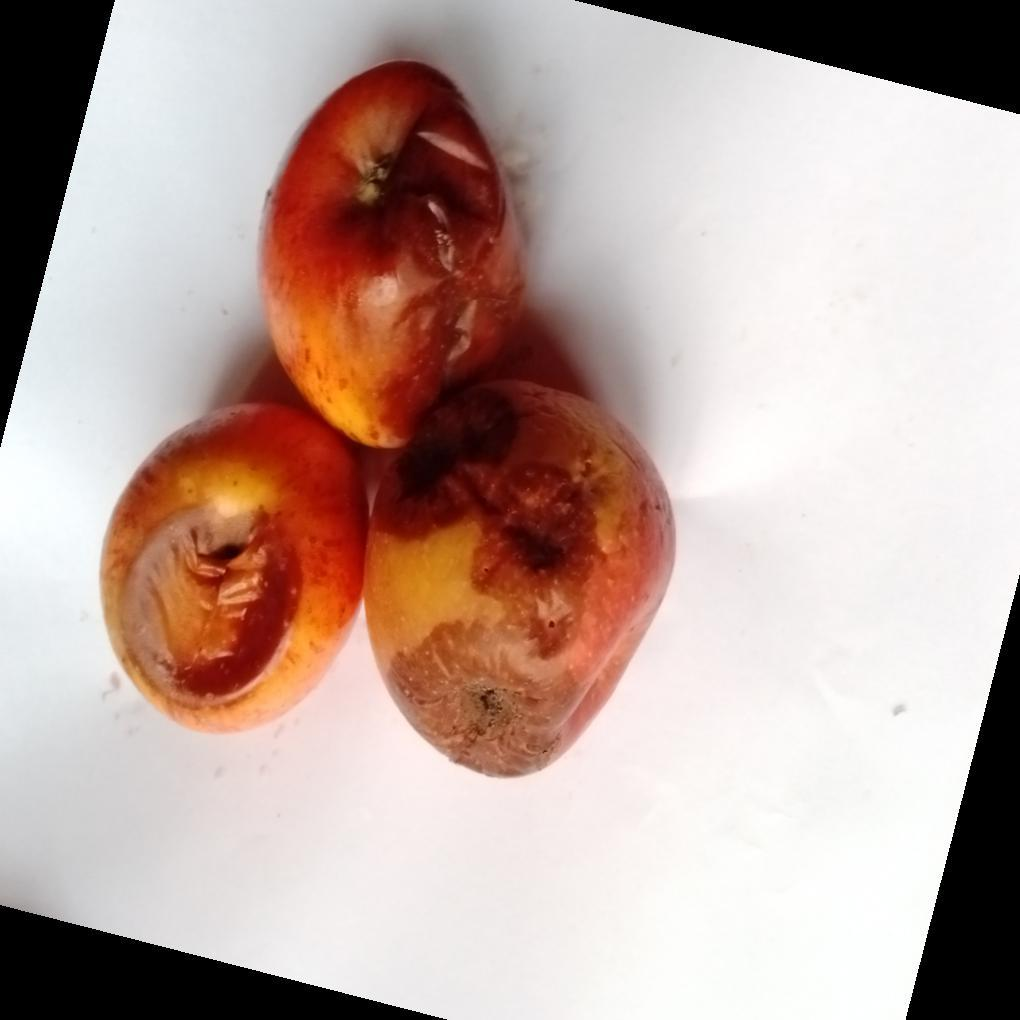FreshOrange: (124, 63, 662, 769)
